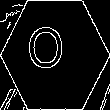O_S: (36, 29, 74, 81)
